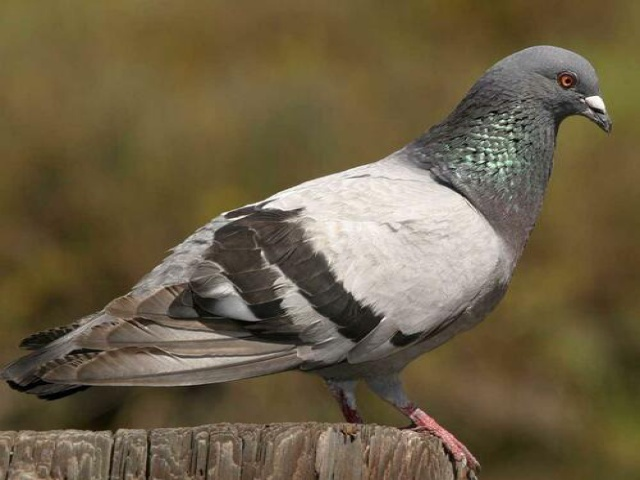Pigeon: (7, 40, 614, 450)
